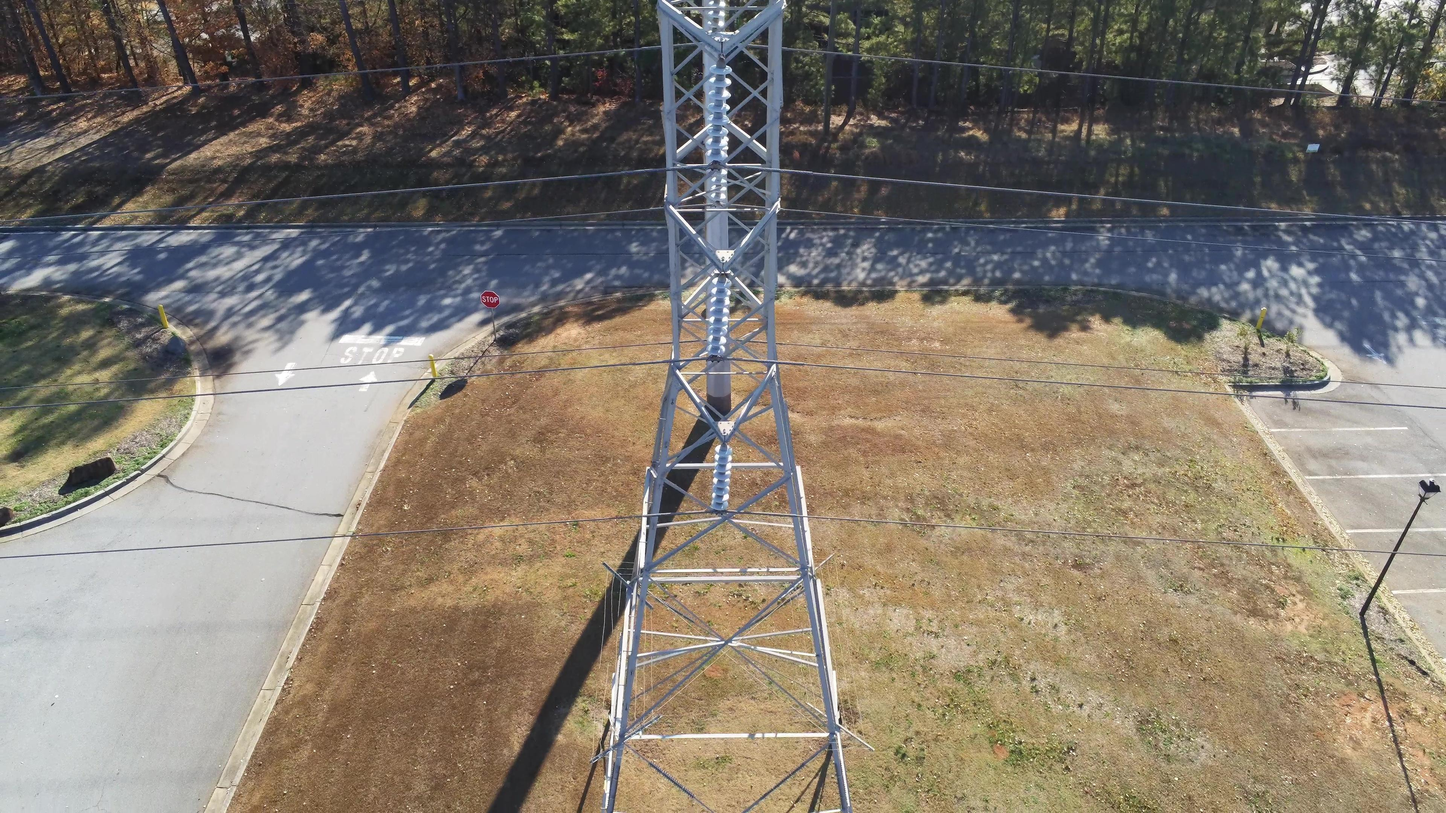power_tower: (591, 1, 876, 813)
